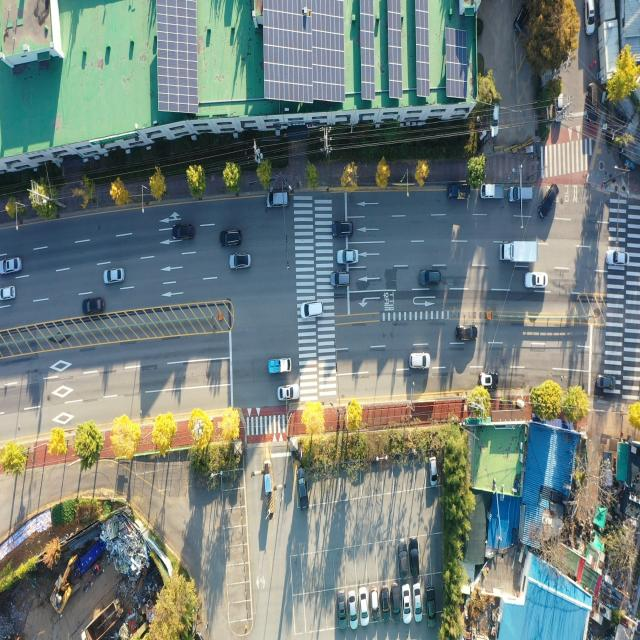car: (540, 184, 560, 221), (515, 0, 532, 35), (587, 83, 599, 125), (297, 464, 308, 506), (508, 187, 532, 205), (583, 0, 595, 35), (302, 302, 325, 320), (526, 272, 548, 290), (268, 192, 290, 210), (419, 270, 442, 287), (606, 249, 629, 266), (348, 591, 358, 629), (338, 592, 348, 630), (411, 540, 421, 578), (220, 231, 241, 249), (456, 324, 478, 341), (84, 299, 106, 316), (334, 220, 356, 237), (104, 268, 124, 286), (410, 352, 430, 370), (427, 586, 436, 626), (0, 259, 21, 276), (174, 225, 195, 242), (337, 250, 359, 266), (278, 385, 300, 401), (414, 584, 423, 622), (398, 538, 407, 576), (231, 253, 252, 269), (490, 106, 500, 139), (331, 273, 351, 289), (359, 587, 367, 627), (479, 373, 498, 389), (402, 585, 410, 623), (596, 376, 615, 392), (391, 586, 399, 620), (370, 588, 378, 621), (556, 92, 564, 125), (382, 588, 391, 616), (429, 457, 437, 487), (0, 285, 15, 300)
medium_truck: (498, 238, 537, 264)
small_truck: (601, 451, 614, 489), (480, 181, 505, 200), (269, 357, 293, 375), (448, 183, 471, 200)
